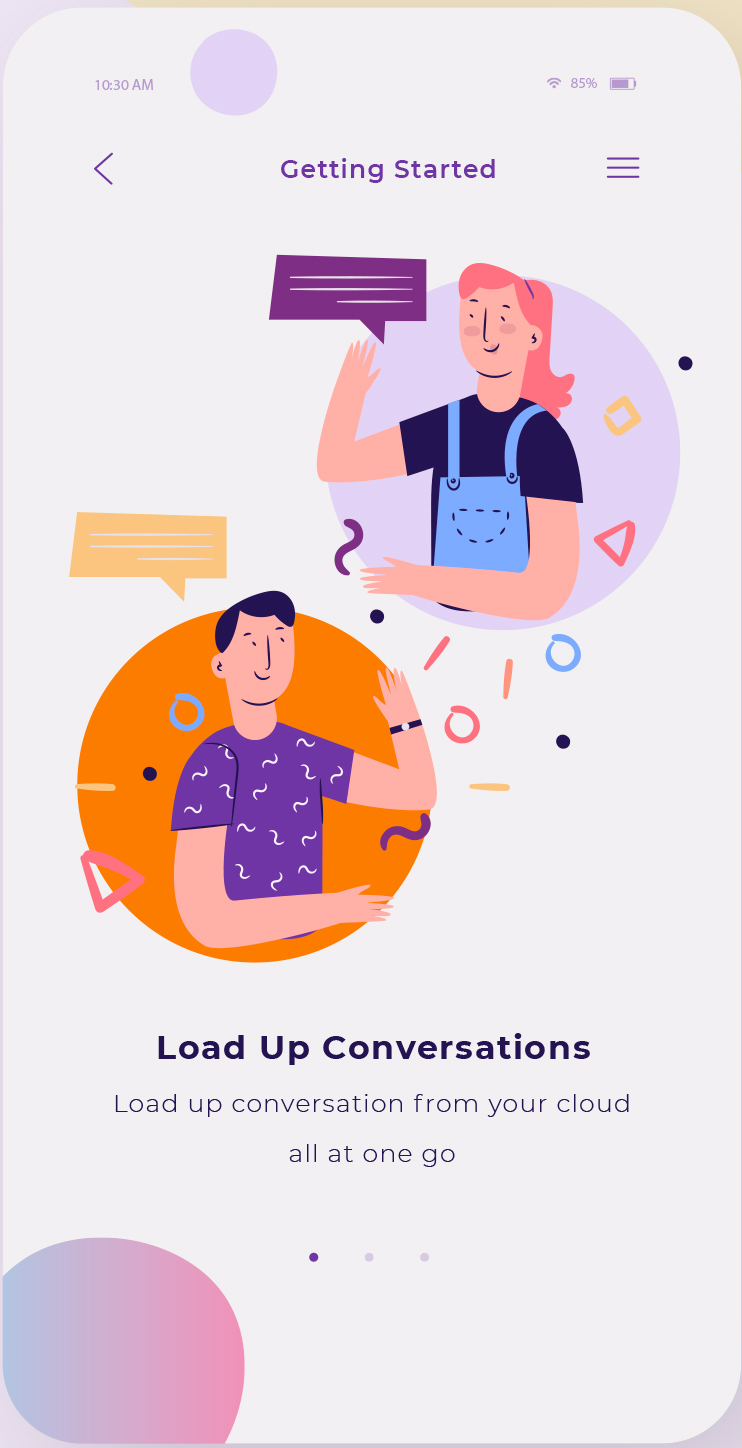Icon: (606, 157, 641, 180), (94, 152, 115, 186)
Image: (69, 255, 693, 964)
PageIndicator: (309, 1251, 430, 1263)
Text: (116, 1093, 630, 1168), (158, 1032, 591, 1066), (280, 157, 496, 185)
UpperTaskBar: (95, 77, 638, 92)
